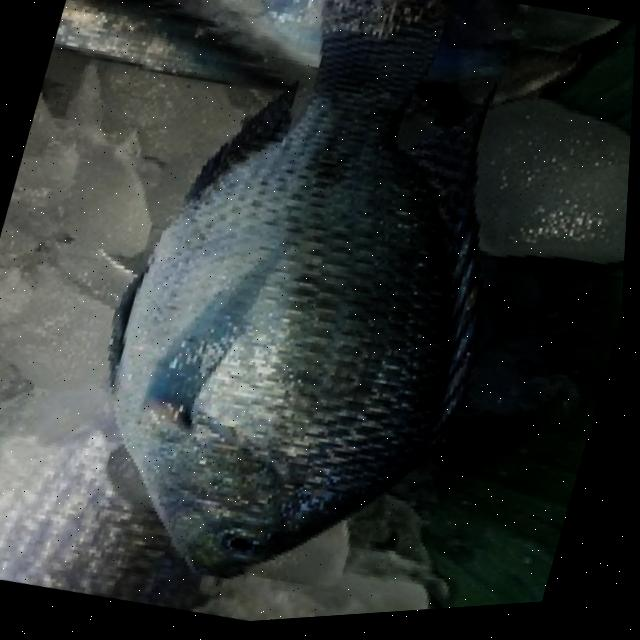Fresh: (40, 0, 578, 637)
